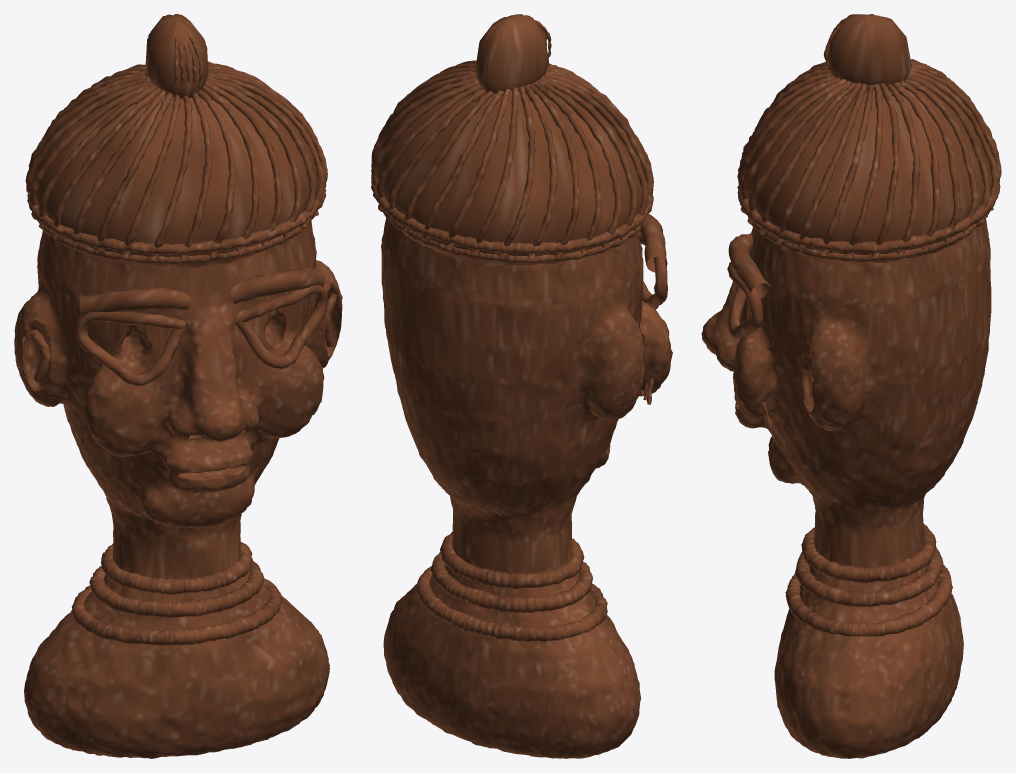
The model's file is terracotta-study.glb.
The picture shows the model from 3 angles, left to right: view 1: azimuth 30°, elevation 25°; view 2: azimuth 150°, elevation 25°; view 3: azimuth 270°, elevation 25°; orthographic projection. The views are drawn at different scales.
Parts seen in each view (by area): view 1: ALKEBULAN | contemporary terracotta study; view 2: ALKEBULAN | contemporary terracotta study; view 3: ALKEBULAN | contemporary terracotta study.
Part boxes in pixels (bbox=[...]): ALKEBULAN | contemporary terracotta study: bbox=[14, 14, 342, 758]; ALKEBULAN | contemporary terracotta study: bbox=[371, 14, 672, 758]; ALKEBULAN | contemporary terracotta study: bbox=[701, 14, 1001, 758].
Bounding box in the file's own units: 2.21 × 5.2 × 2.04.
